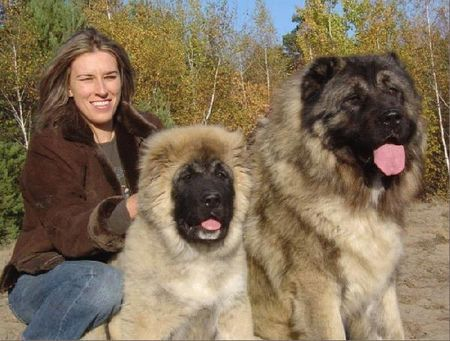cau_ovcharka: (243, 51, 427, 341), (78, 126, 252, 341)
human_face: (67, 52, 121, 122)
person: (0, 29, 161, 341)
